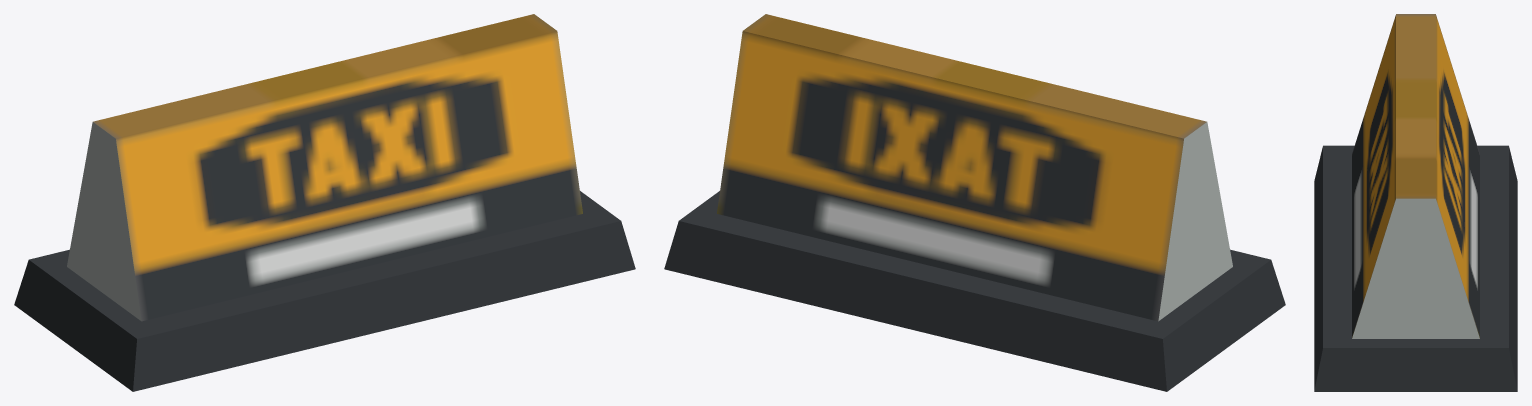
Rendered from SM_Prop_Taxi_Sign_01.glb.
The picture shows the model from 3 angles, left to right: view 1: azimuth 30°, elevation 25°; view 2: azimuth 150°, elevation 25°; view 3: azimuth 270°, elevation 25°; orthographic projection. The views are drawn at different scales.
Visible parts, largest first — view 1: SM_Prop_Taxi_Sign_01; view 2: SM_Prop_Taxi_Sign_01; view 3: SM_Prop_Taxi_Sign_01.
Part boxes in pixels (x1,y1,x2,y2): SM_Prop_Taxi_Sign_01: [14, 14, 635, 391]; SM_Prop_Taxi_Sign_01: [664, 14, 1285, 391]; SM_Prop_Taxi_Sign_01: [1314, 14, 1517, 391].
Bounding box in the file's own units: 0.388 × 0.1554 × 0.1588.
Materials: 1 (1 with a texture image).
